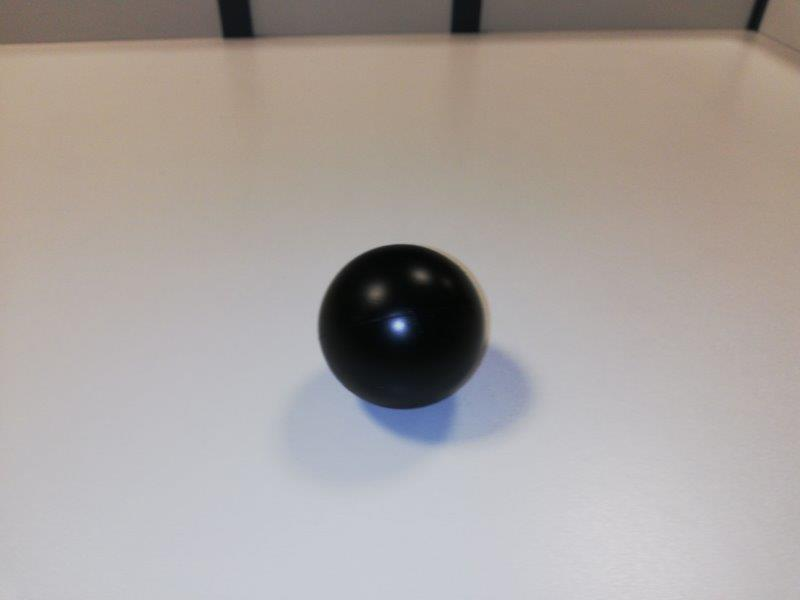nera: (317, 243, 488, 411)
